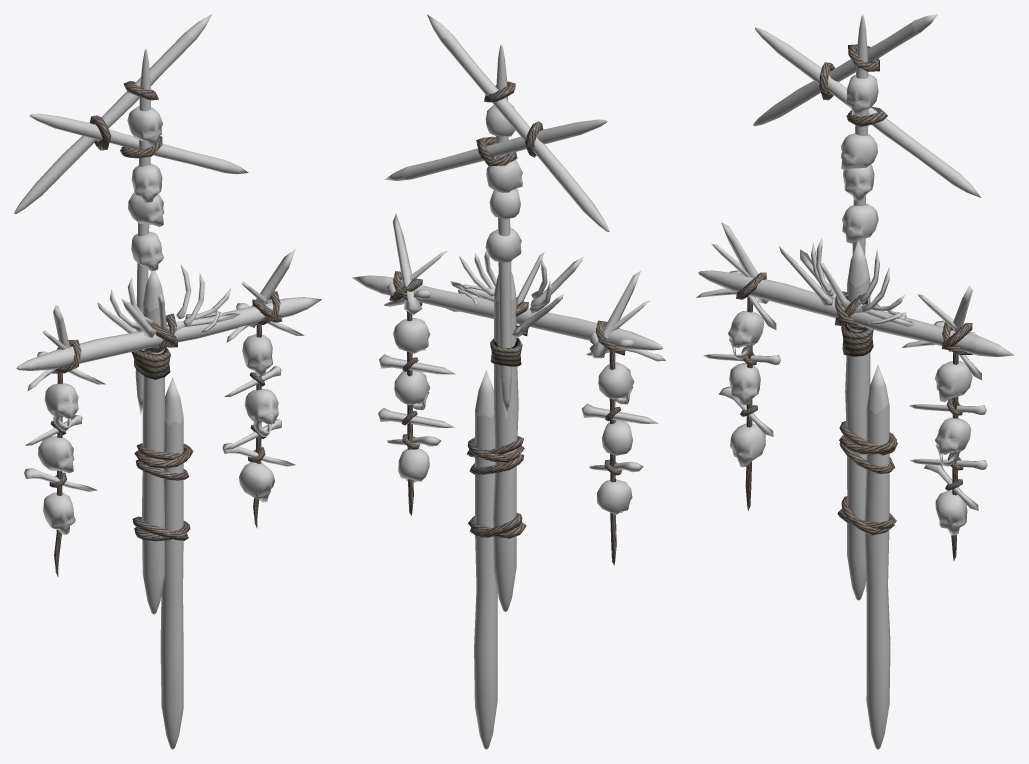
File: Wood_SpikeBone_C.FBX
3 renders of one model, left to right at view 1: azimuth 30°, elevation 25°; view 2: azimuth 150°, elevation 25°; view 3: azimuth 330°, elevation 25°, orthographic. The views are drawn at different scales.
Parts seen in each view (by area): view 1: Wood_SpikeBone_C; view 2: Wood_SpikeBone_C; view 3: Wood_SpikeBone_C.
Boxes of the visible parts, <box> form: Wood_SpikeBone_C: <box>14,14,321,749</box>; Wood_SpikeBone_C: <box>352,14,665,749</box>; Wood_SpikeBone_C: <box>696,14,1013,749</box>.
Size of the model in its own units: 204 by 457 by 52.38.
